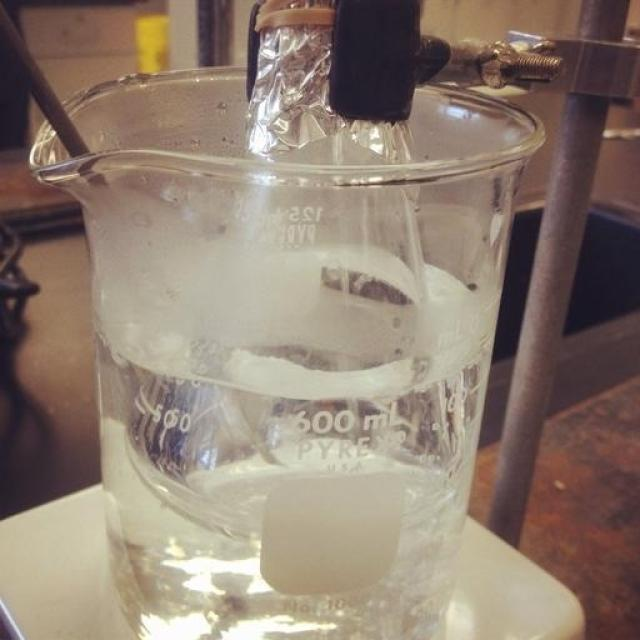Glass: (0, 45, 601, 640)
